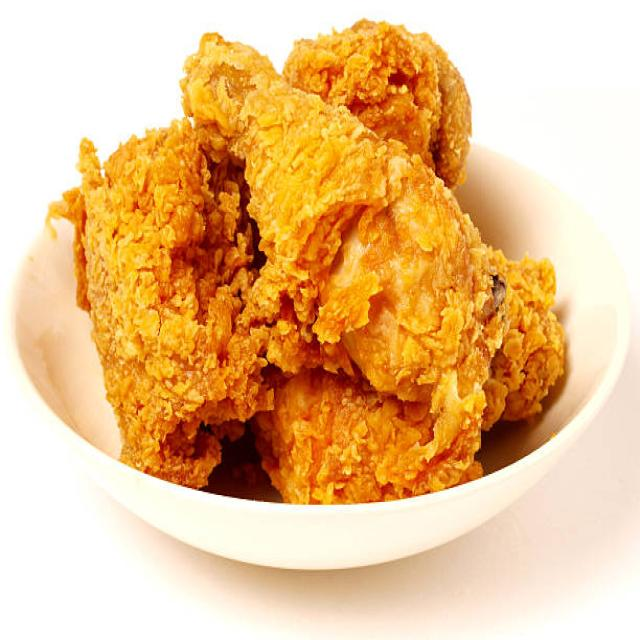Frango: (46, 7, 571, 509)
